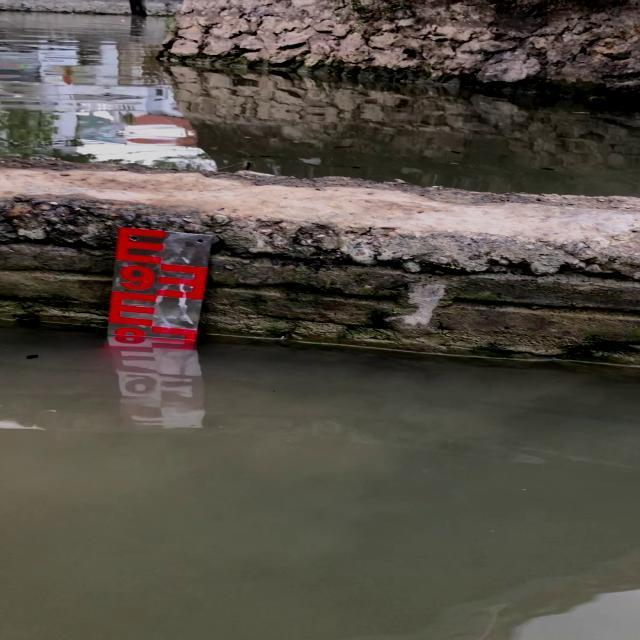ruler: (100, 218, 218, 352)
value: (115, 259, 160, 297)
